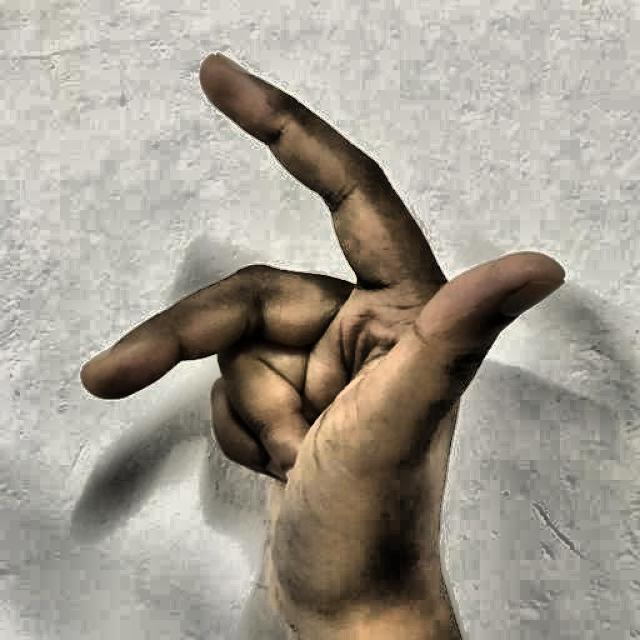Da: (41, 35, 589, 625)
